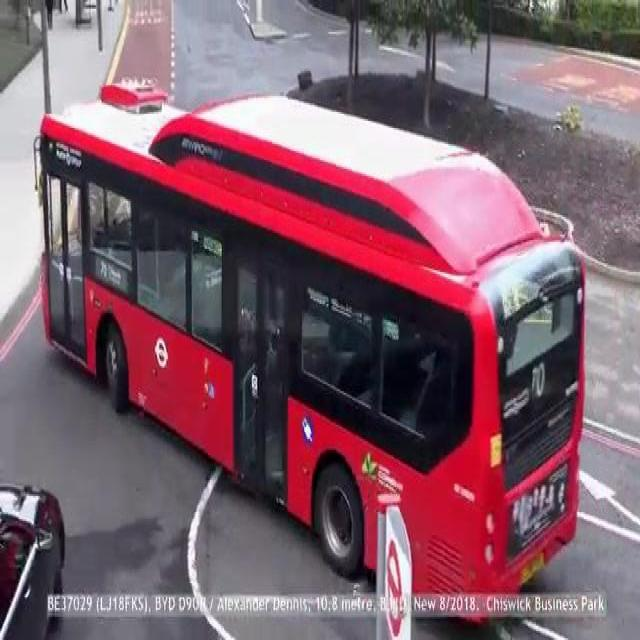bus: (24, 67, 617, 609)
